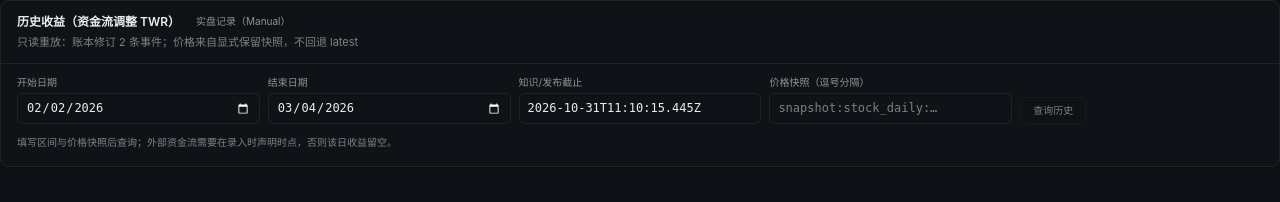
Test case: ManualHistoryPanel › renders an error with retry when the query fails
Type "snapshot:stock_daily:1" into the field labelled "价格快照".
click(891, 109); type("snapshot:stock_daily:1")  # box [769,93,1012,124]
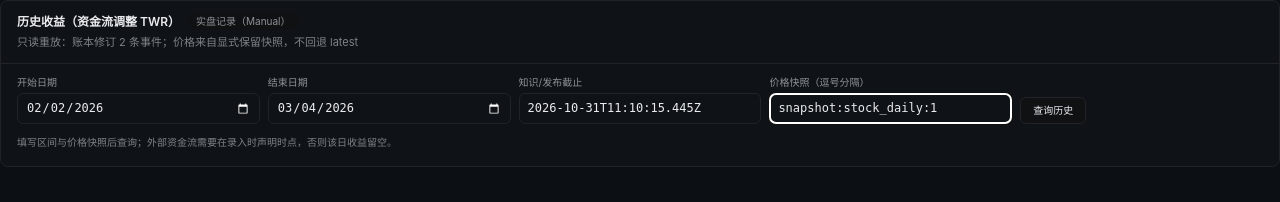
Click the button "查询历史".
click(1053, 111)  # box [1020,97,1086,124]
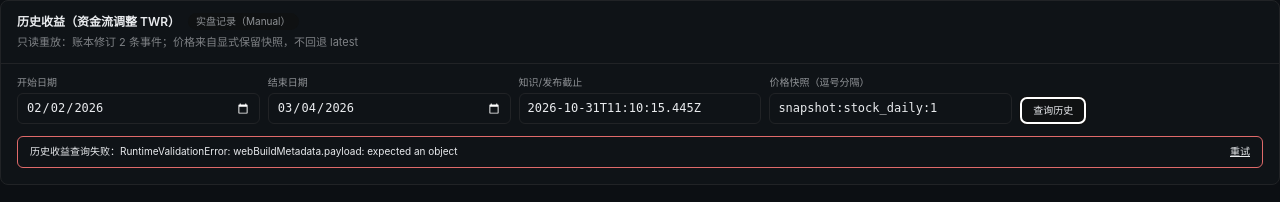
expect the message shows "历史收益查询失败": met, box [30,145,120,157]
expect the button "重试" is shown: met, box [1230,145,1250,159]
